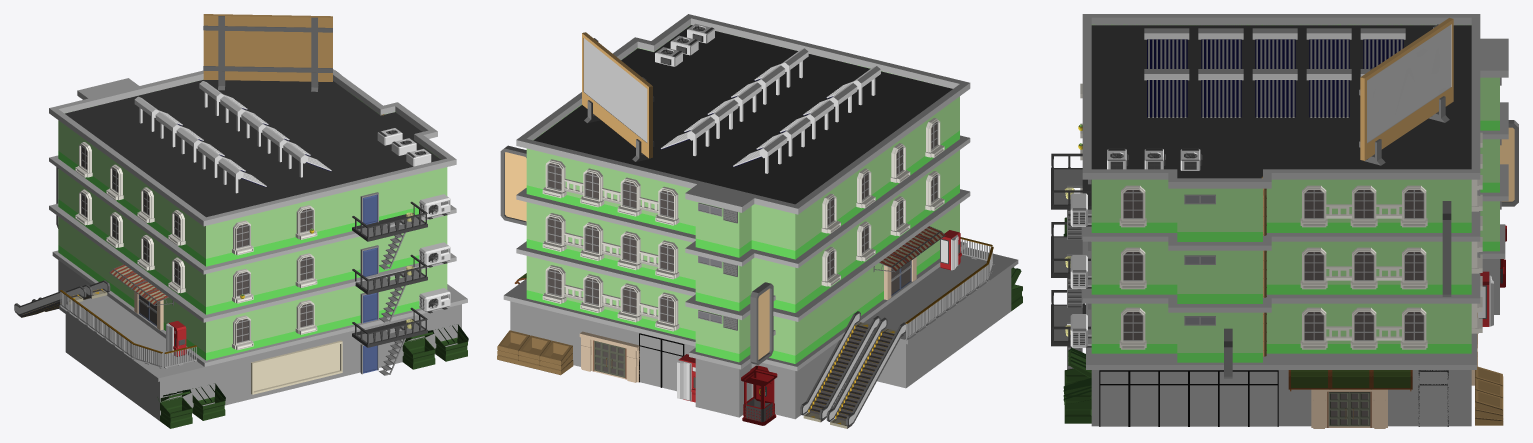
The model's file is House 5.fbx.
3 renders of one model, left to right at view 1: azimuth 30°, elevation 25°; view 2: azimuth 150°, elevation 25°; view 3: azimuth 270°, elevation 25°, orthographic. The views are drawn at different scales.
Parts seen in each view (by area): view 1: House 5; view 2: House 5; view 3: House 5.
Part boxes in pixels (box(x1,y1,x2,y2)): House 5: box(14, 14, 468, 428); House 5: box(497, 14, 1022, 428); House 5: box(1051, 14, 1518, 428).
Bounding box in the file's own units: 22.5 × 16.63 × 21.05.
